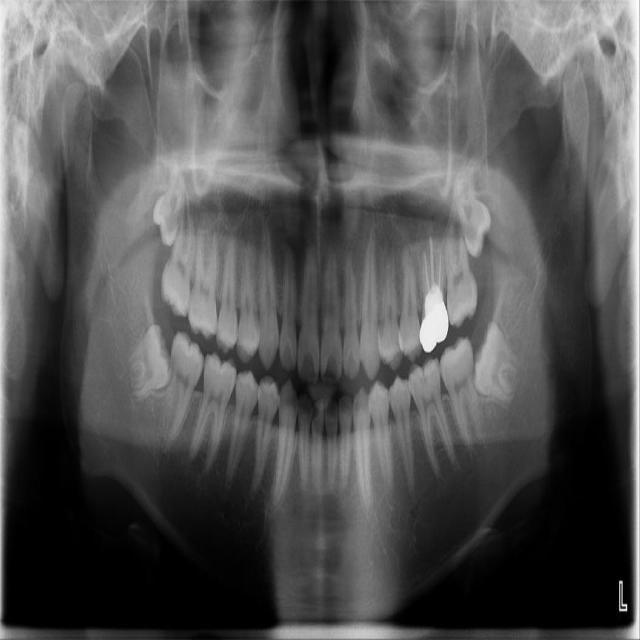3M ESPE Implant: (147, 155, 190, 249)
52: (416, 298, 453, 355)
73: (421, 221, 445, 313), (570, 582, 576, 582)
BioHorizons Implant: (437, 212, 481, 332)
BioLife Implant: (450, 158, 498, 261)
Biomet 3i Implant: (466, 317, 530, 403)
Blue Sky Bio Implant: (436, 335, 486, 455)
Caries: (157, 193, 200, 318)
Implant: (157, 329, 209, 442)
Keystone Dental Implant: (124, 324, 175, 397)
